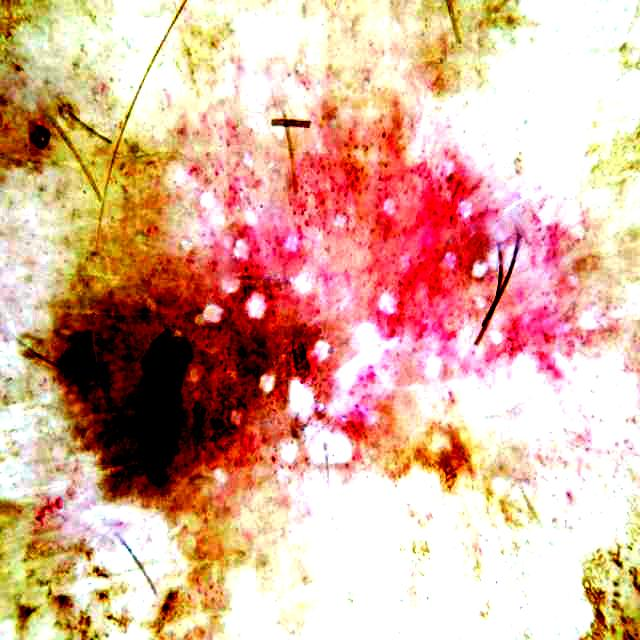AKIEC: (58, 125, 538, 501)
